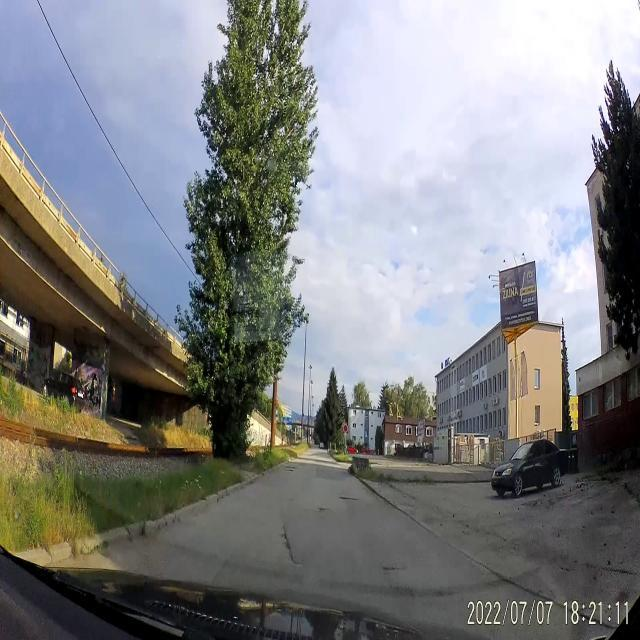Pothole: (282, 520, 296, 572), (380, 560, 408, 575), (338, 494, 356, 504), (316, 504, 329, 516), (284, 464, 297, 474)
